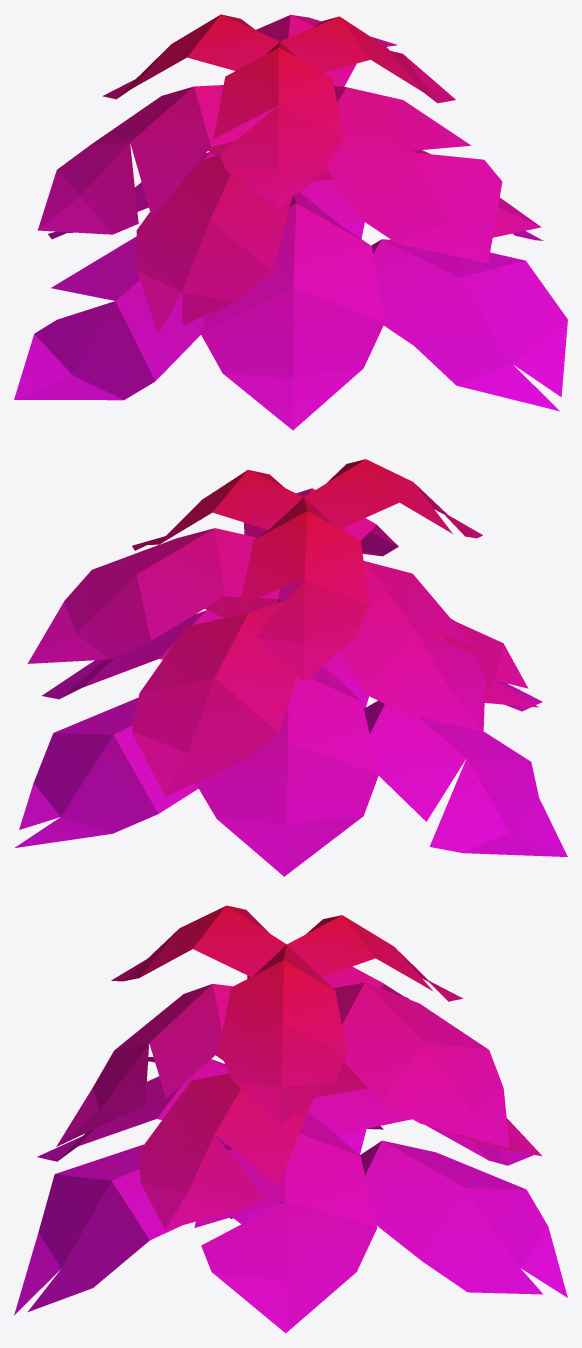
File: SM_Gen_Env_Fern_01.glb
3 renders of one model, top to bottom at view 1: azimuth 30°, elevation 25°; view 2: azimuth 150°, elevation 25°; view 3: azimuth 270°, elevation 25°, orthographic.
Visible parts, largest first — view 1: SM_Gen_Env_Fern_012; view 2: SM_Gen_Env_Fern_012; view 3: SM_Gen_Env_Fern_012.
Boxes of the visible parts, bbox=[...] form: SM_Gen_Env_Fern_012: bbox=[14, 14, 567, 430]; SM_Gen_Env_Fern_012: bbox=[15, 459, 567, 876]; SM_Gen_Env_Fern_012: bbox=[14, 905, 567, 1333].
Bounding box in the file's own units: 1.19 × 0.7215 × 1.08.
